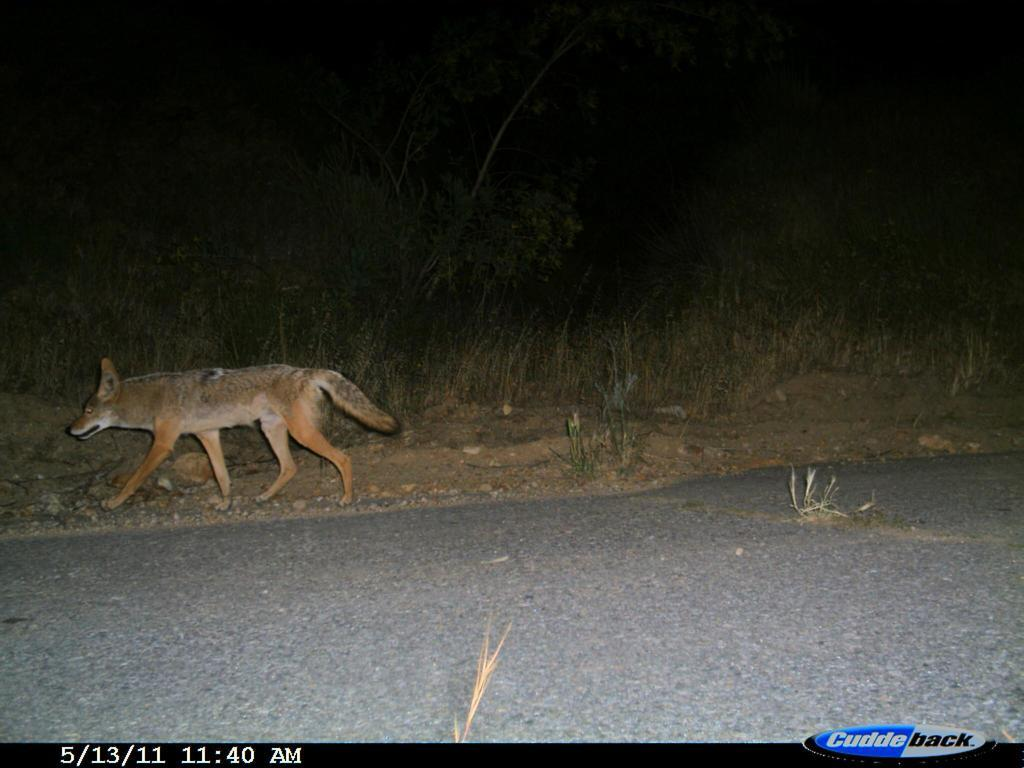coyote: (63, 337, 399, 527)
